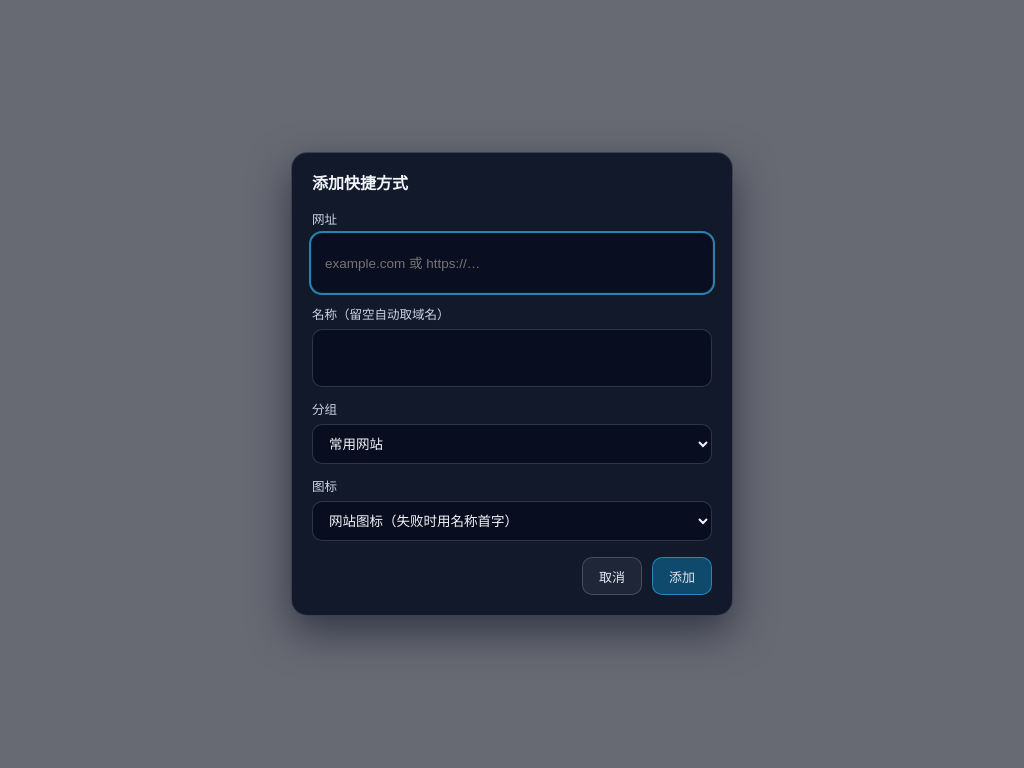
Test: ShortcutQuickAdd 提交 › 新分组名称为空时报错且不创建
The image size is (1024, 768).
Check: the dialog "添加快捷方式" is shown, box [291, 152, 733, 616]
Select "＋ 新建分组…" in the dropdown labelled "分组" at (512, 444), box [312, 424, 712, 464]
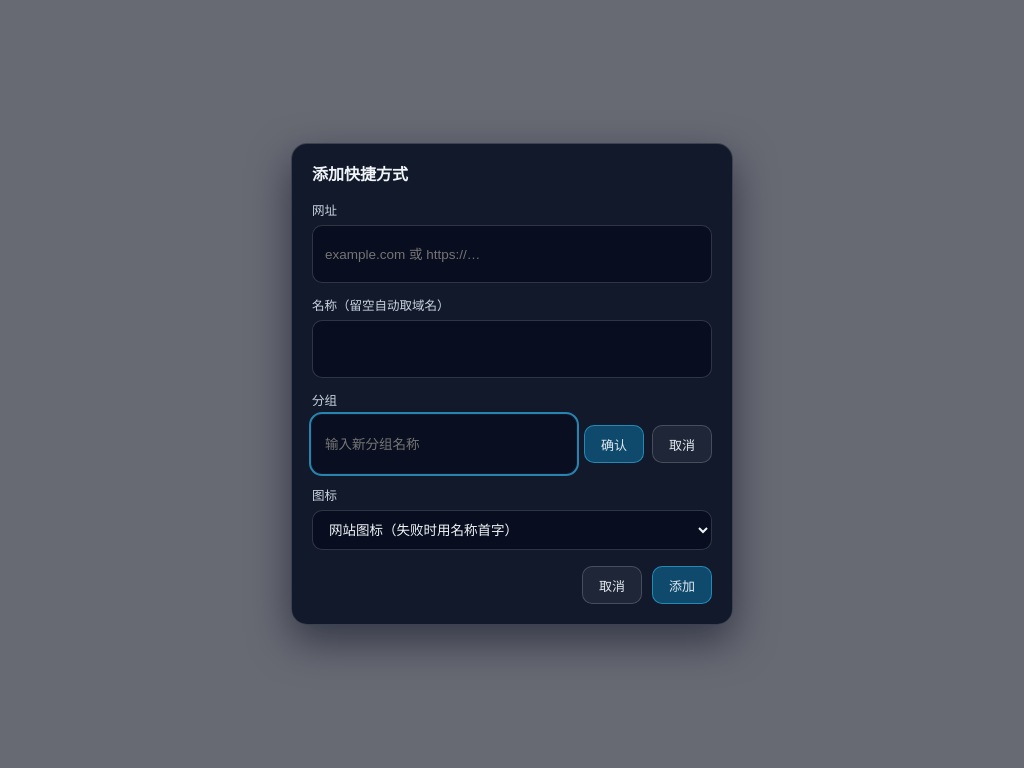
Check: the field labelled "分组" is shown, box [312, 415, 576, 473]
Click the button "确认".
click(614, 444)  # box [584, 425, 644, 463]
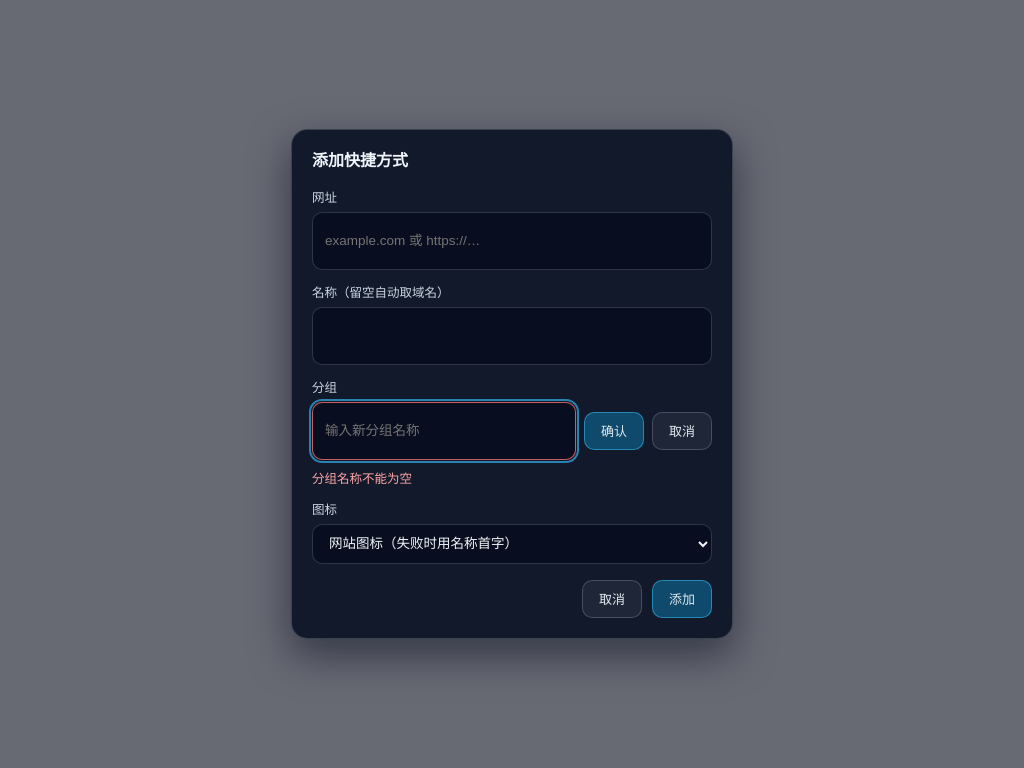
Check: the message reads "分组名称不能为空", box [312, 472, 412, 486]
